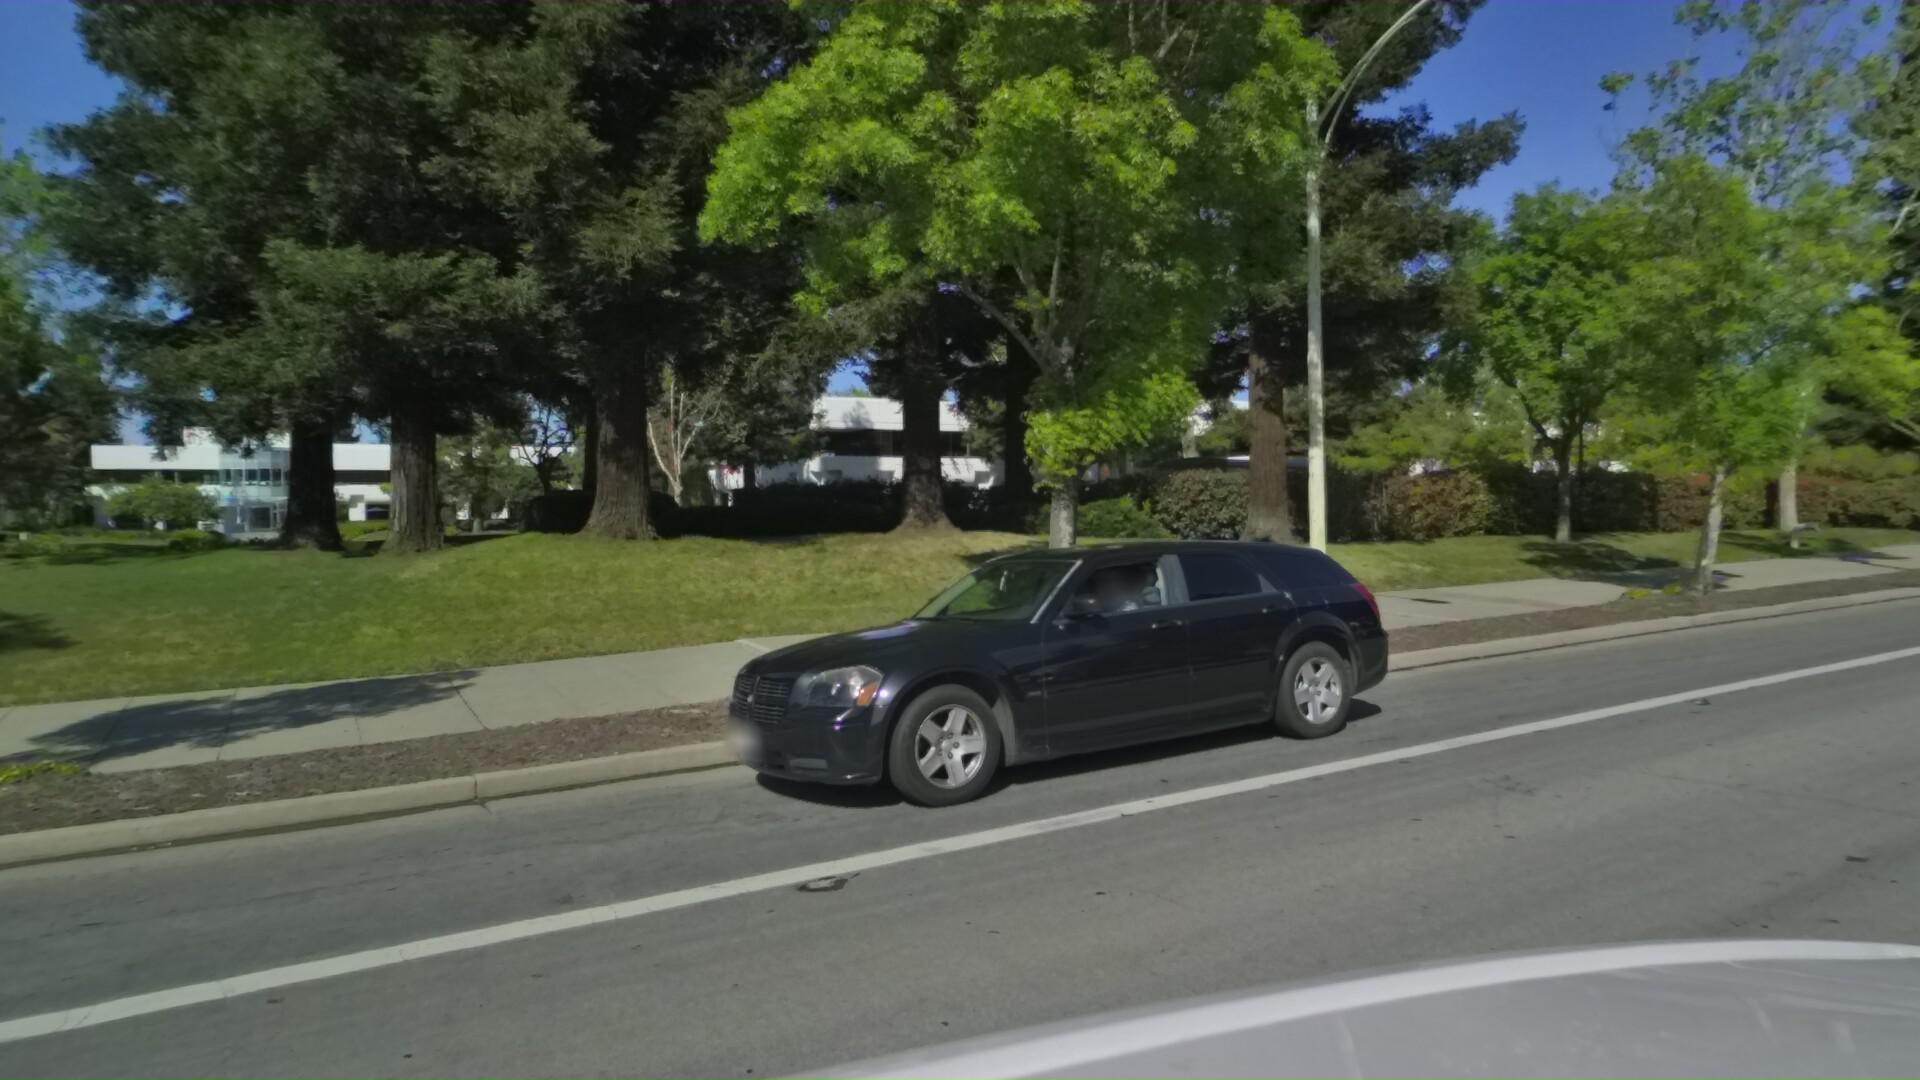car: (673, 522, 1398, 862)
